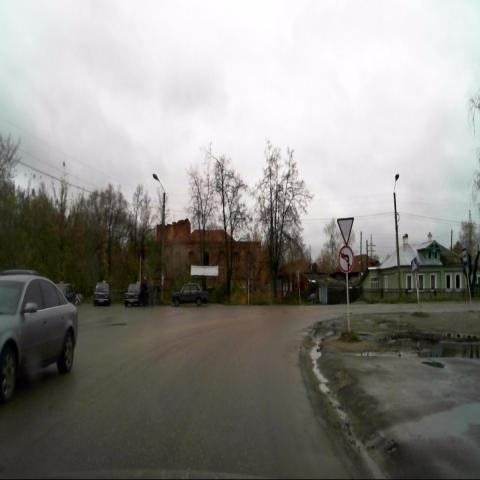3_18_2: (338, 246, 354, 274)
